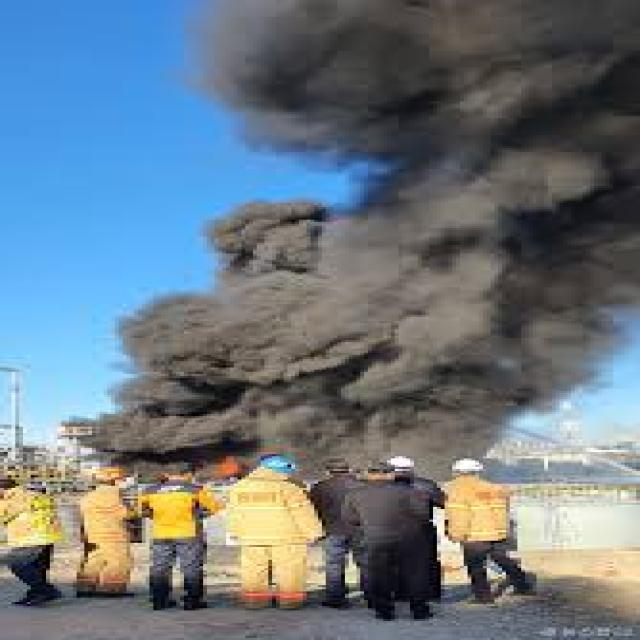explosion: (54, 0, 636, 522)
